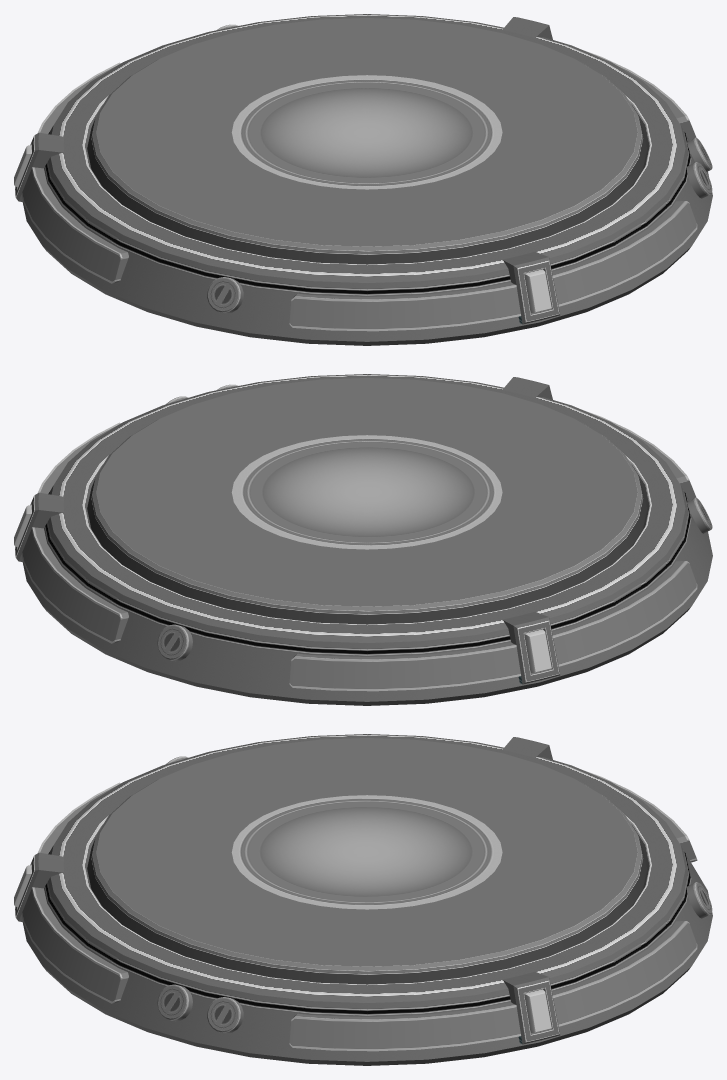
The model's file is basemachine.fbx.
3 views of the same model, one above another, from view 1: azimuth 30°, elevation 25°; view 2: azimuth 150°, elevation 25°; view 3: azimuth 270°, elevation 25° (orthographic).
Visible parts, largest first — view 1: machinebase; view 2: machinebase; view 3: machinebase.
Part boxes in pixels (box(x1,y1,x2,y2)): machinebase: box(14, 14, 712, 345); machinebase: box(14, 374, 712, 705); machinebase: box(14, 734, 712, 1065).
Size of the model in its own units: 122 by 13.51 by 123.
